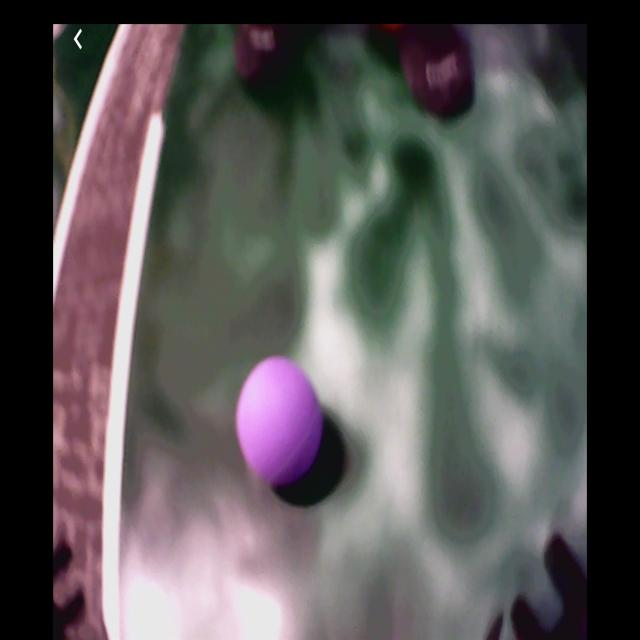ball: (238, 357, 323, 487)
